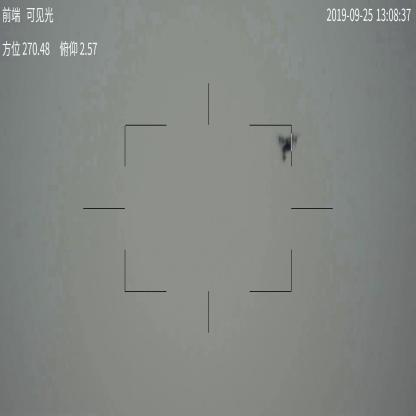uav: (276, 131, 298, 161)
